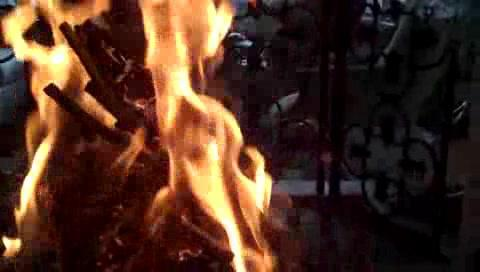fire: (141, 2, 283, 262), (3, 3, 102, 213)
